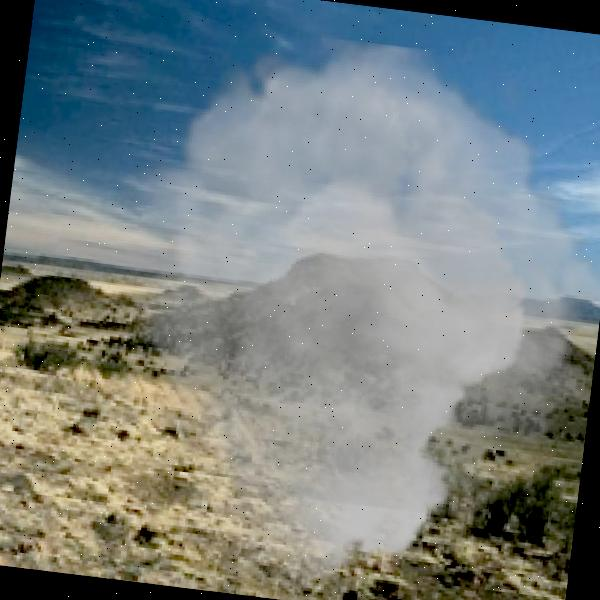smoke: (73, 14, 600, 600)
